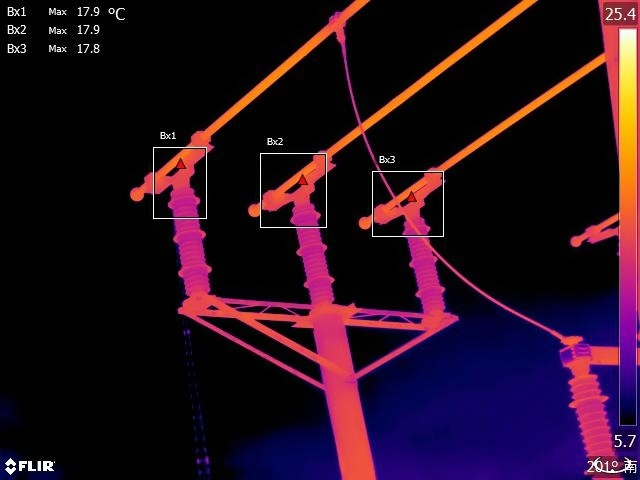clamp: (319, 6, 357, 53)
post insulator: (162, 174, 224, 299), (567, 373, 628, 480), (288, 199, 342, 299), (399, 213, 449, 307)
switch: (552, 332, 640, 378)
